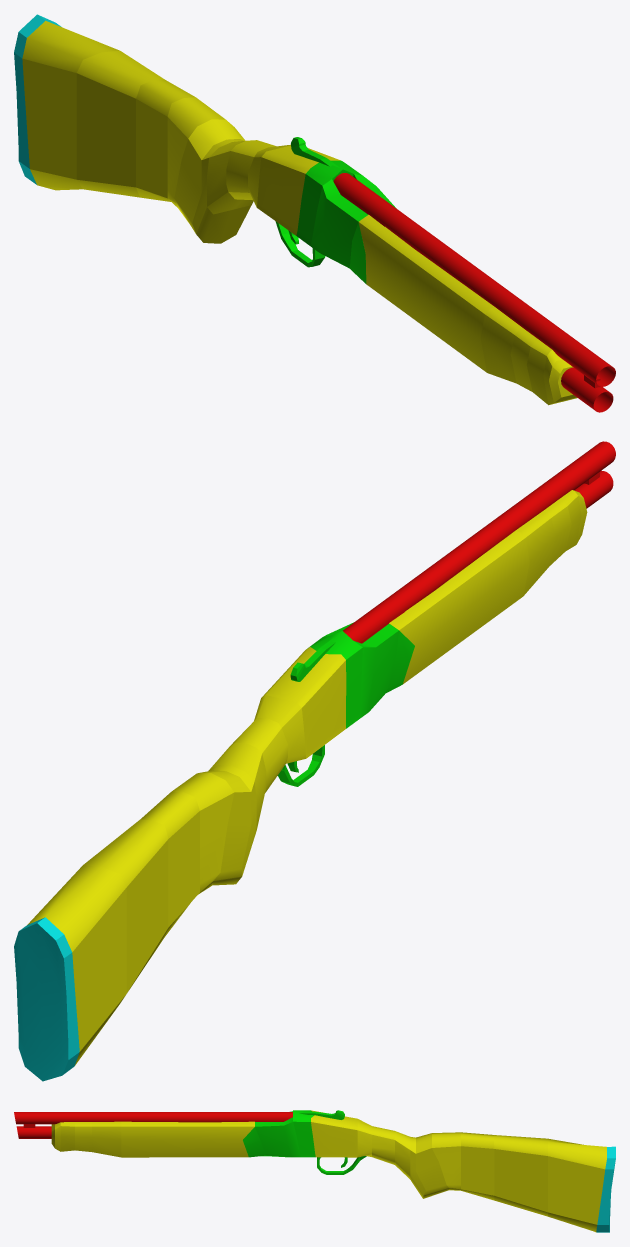
The model's file is shotgunCut.fbx.
3 renders of one model, top to bottom at view 1: azimuth 30°, elevation 25°; view 2: azimuth 150°, elevation 25°; view 3: azimuth 270°, elevation 25°, orthographic. The views are drawn at different scales.
Visible parts, largest first — view 1: BA_Back, BA_Front; view 2: BA_Back, BA_Front; view 3: BA_Back, BA_Front.
Boxes of the visible parts, x1=… form: BA_Back: x1=14, y1=14, x2=396, y2=283; BA_Front: x1=333, y1=173, x2=615, y2=412; BA_Back: x1=14, y1=622, x2=414, y2=1081; BA_Front: x1=343, y1=441, x2=615, y2=683; BA_Back: x1=243, y1=1110, x2=615, y2=1232; BA_Front: x1=14, y1=1112, x2=292, y2=1157.
Bounding box in the file's own units: 5.24 × 23.19 × 103.
